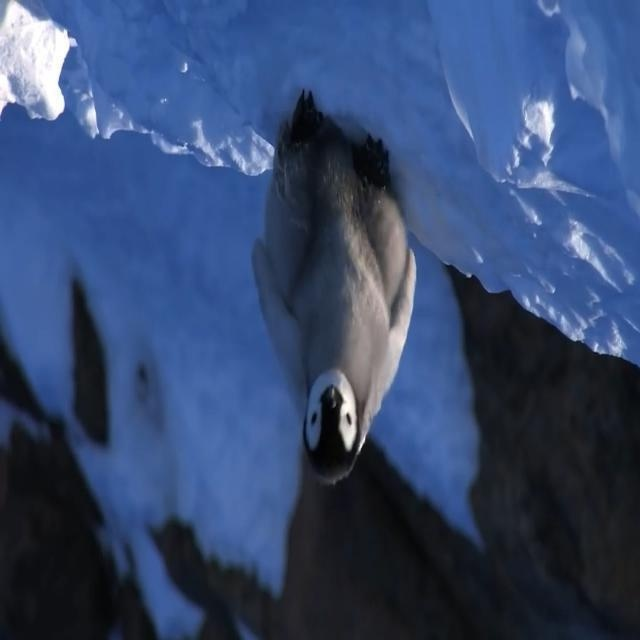penguin: (249, 87, 419, 485)
